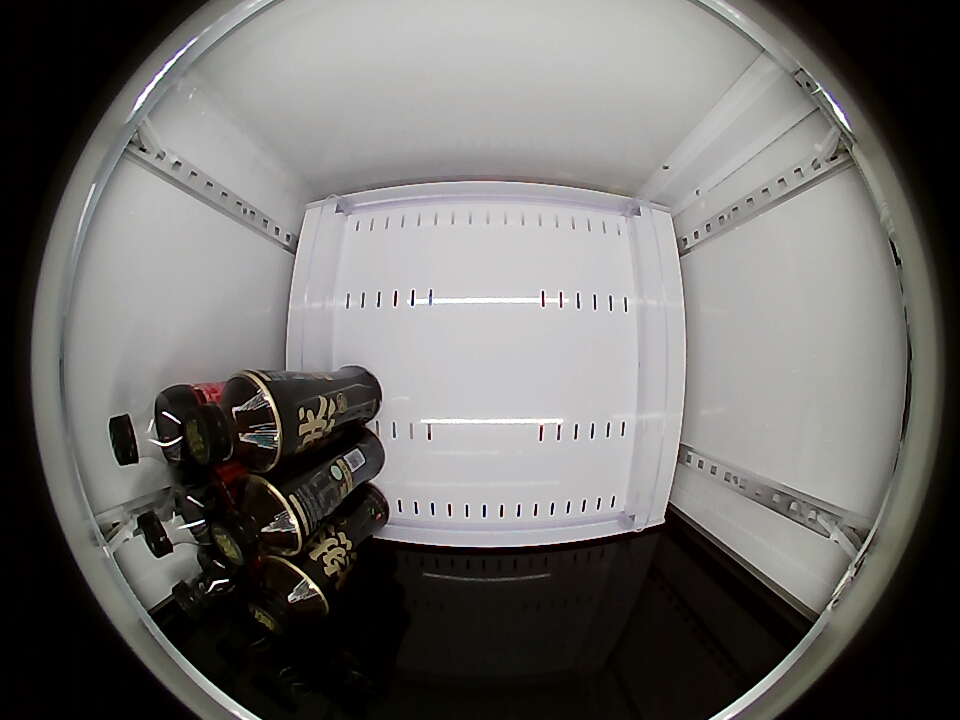lingdukele-b: (108, 389, 190, 468), (137, 480, 216, 558), (173, 550, 241, 616)
rancha-1: (185, 369, 283, 472), (204, 476, 304, 567), (245, 554, 331, 636)
